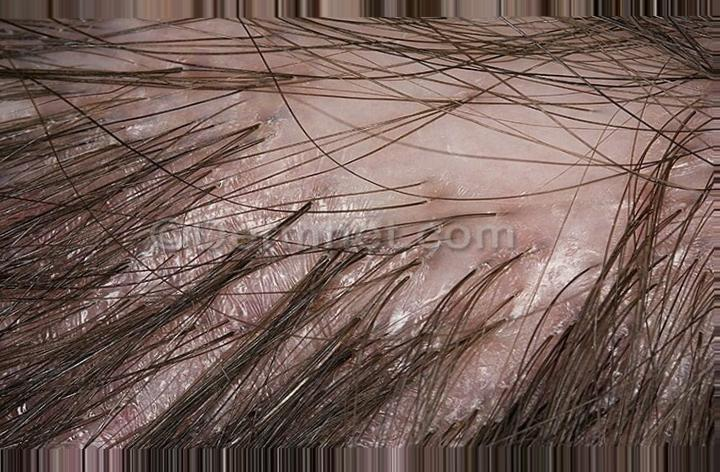Folliculitis: (203, 48, 634, 344)
